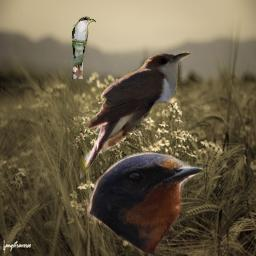Cuckoo: (80, 50, 191, 183), (71, 16, 96, 79)
Swallow: (87, 151, 207, 255)
